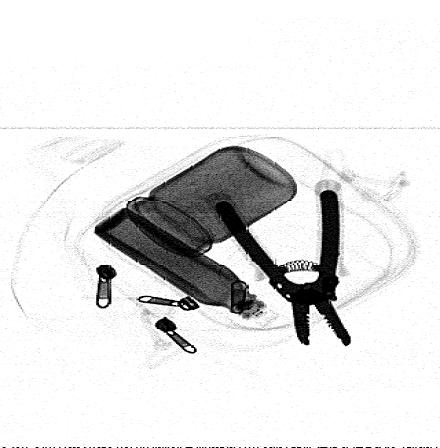Pliers: (213, 188, 356, 347)
